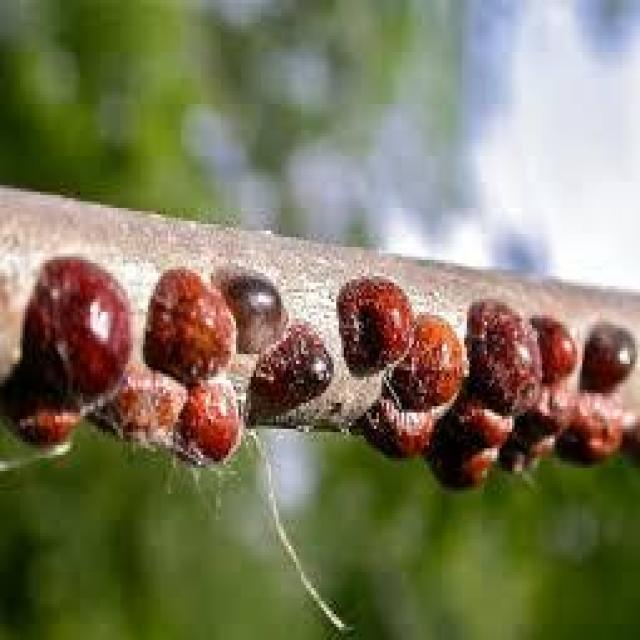Black Scale: (352, 299, 637, 498), (0, 253, 133, 455), (95, 377, 238, 461), (146, 270, 233, 383), (248, 322, 332, 426), (339, 276, 412, 379), (213, 270, 286, 351)
